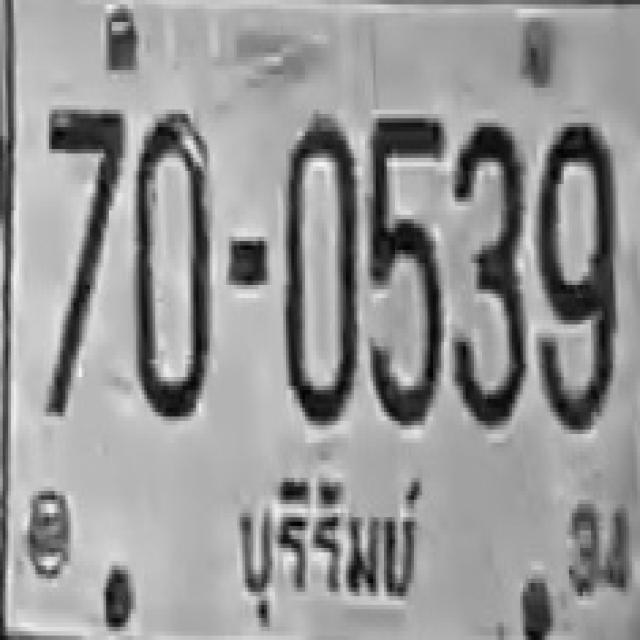0: (133, 112, 210, 418), (283, 118, 357, 426)
3: (451, 120, 524, 428)
5: (368, 114, 444, 425)
7: (44, 106, 122, 417)
9: (536, 118, 616, 430)
BRM: (217, 455, 426, 634)
